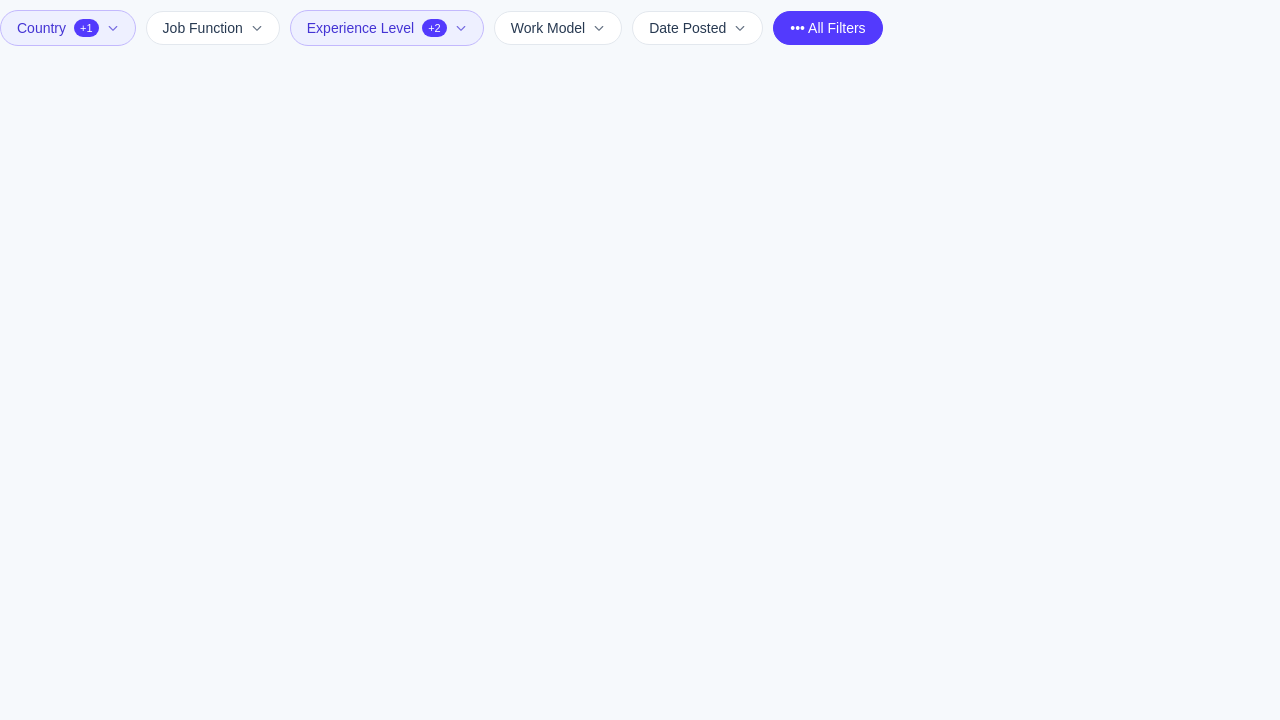
Test case: JobFilterBar city input commit › the All-locations checkbox unchecks as soon as text is typed
This screenshot has width=1280, height=720.
Click the button "Country +1": (68, 28) [0,10,136,46]
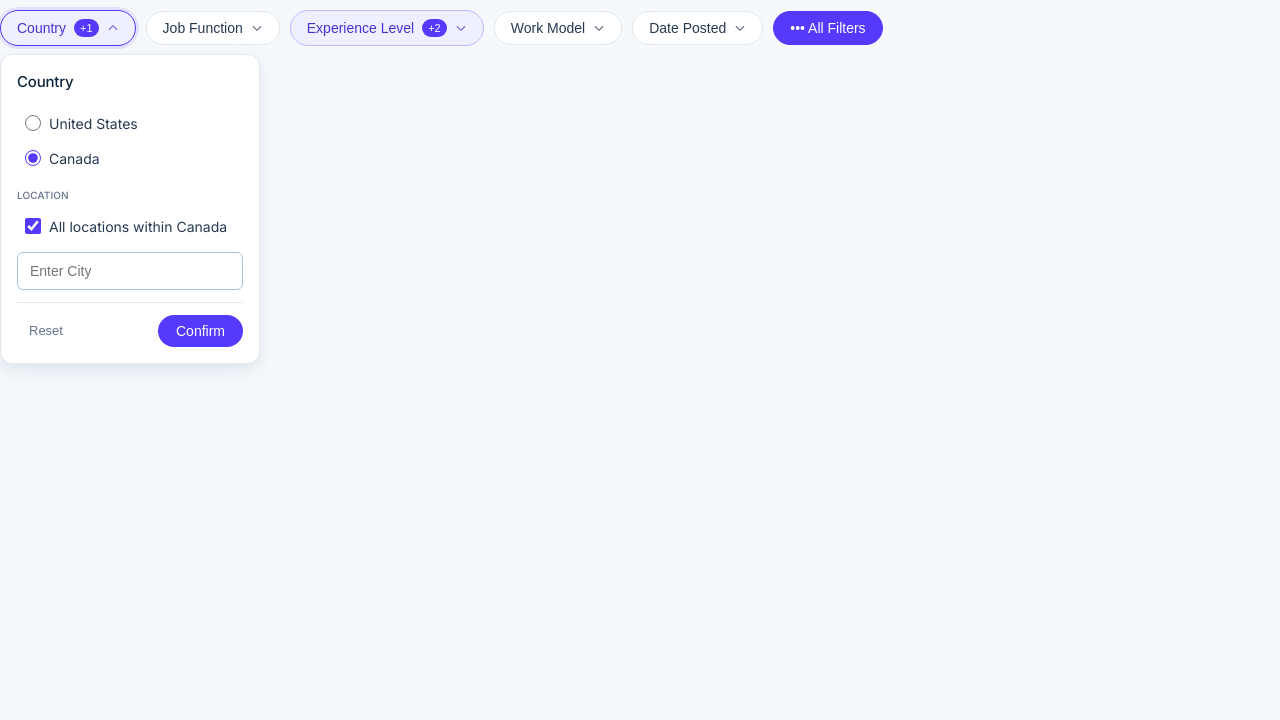
Result: the checkbox labelled "All locations within Canada" is checked at [25,218,41,234]
In the field named "type a city name": (130, 270) [30,260,230,280], type "Ott"
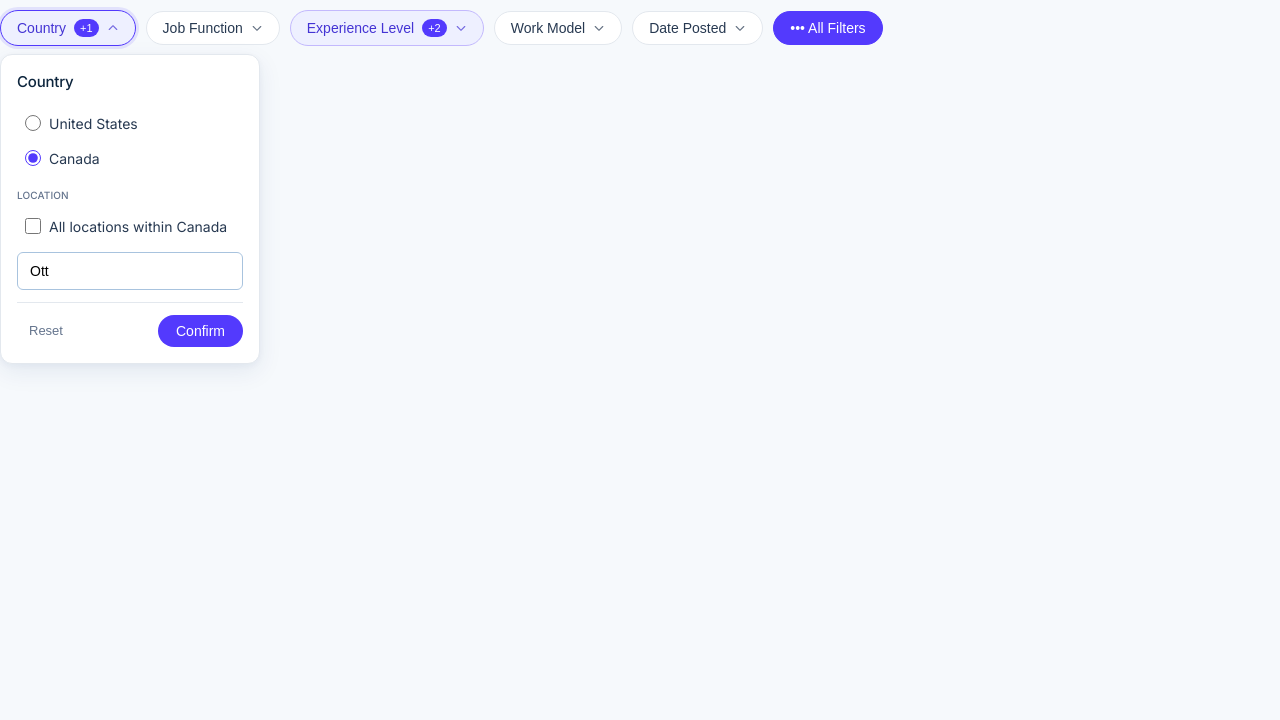
Result: the checkbox labelled "All locations within Canada" is not checked at [25,218,41,234]
